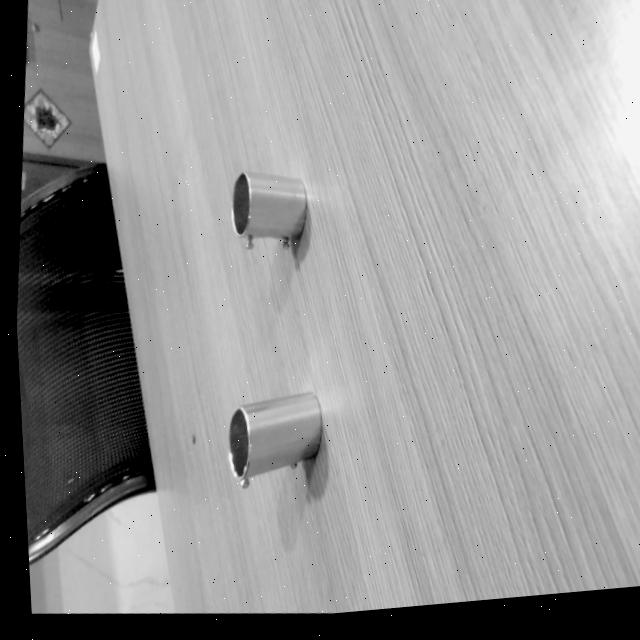Co_Lon: (218, 390, 331, 489)
Co_Nho: (229, 171, 307, 250)
